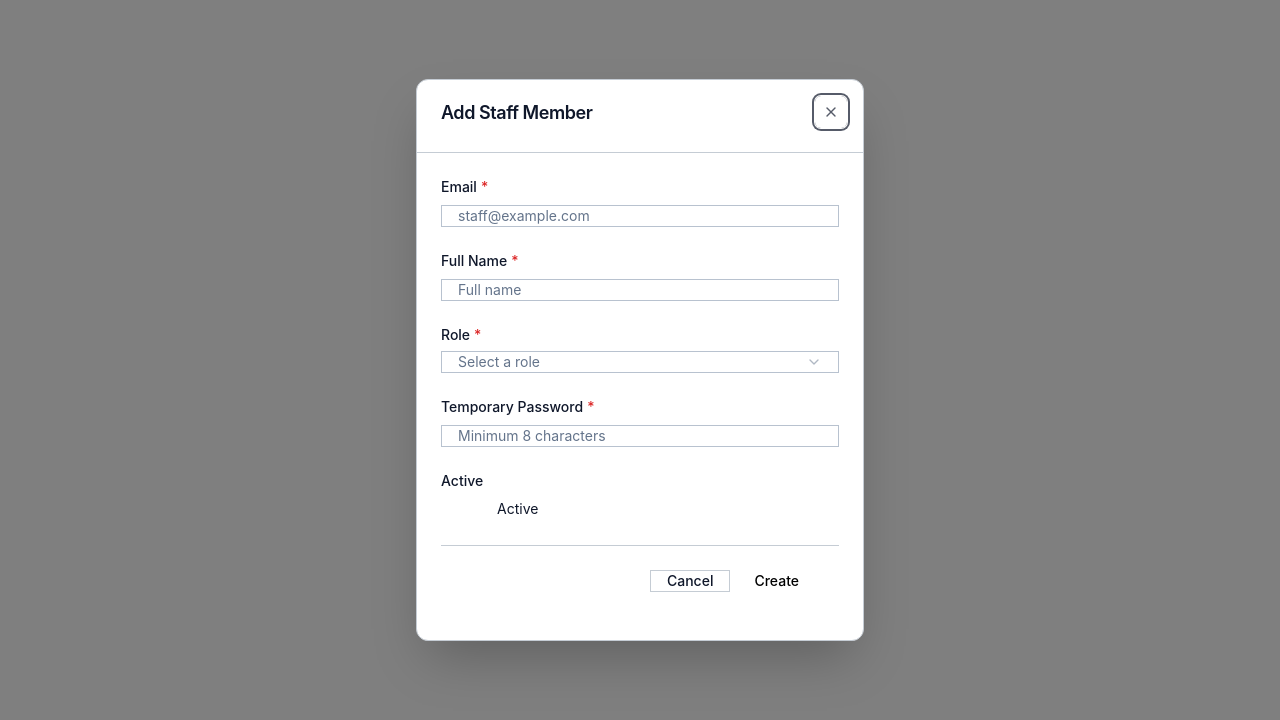
Scenario: StaffFormDialog › create mode › shows role validation error when not selected
What coordinates should you click on to do the following:
click the button "Create"
I would click on:
 (777, 581)
Its box is [738,571,815,591].
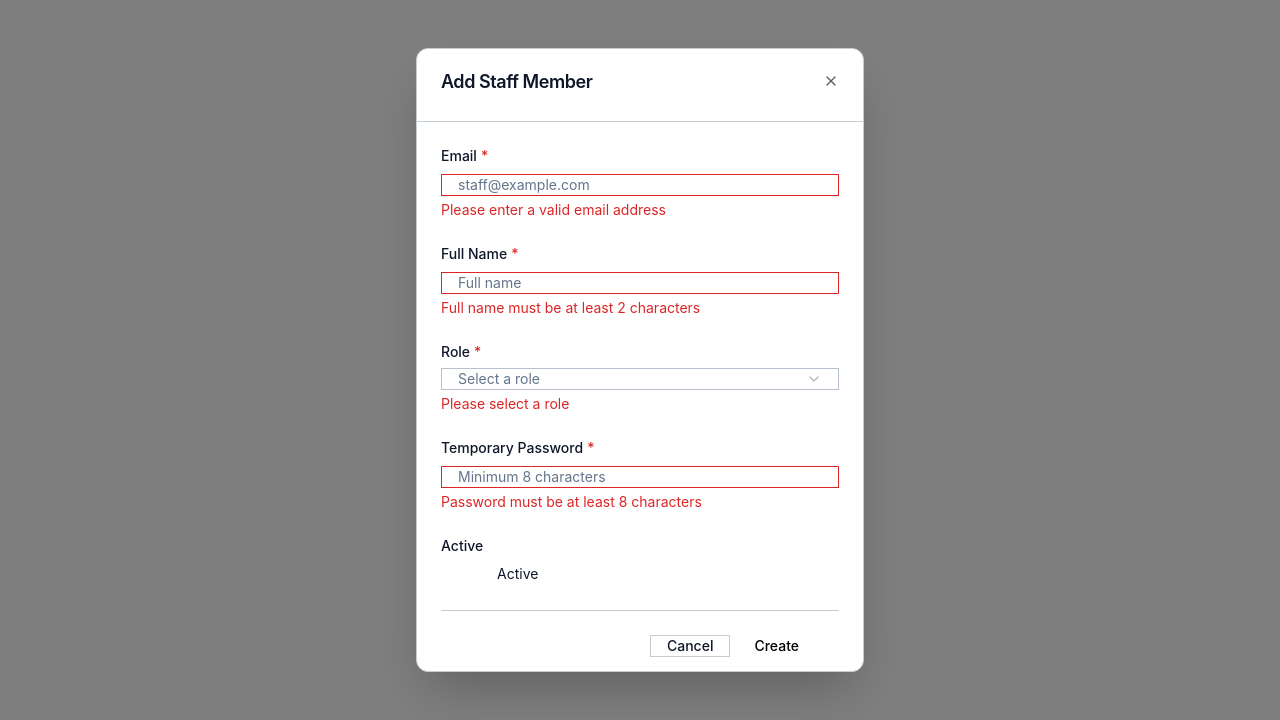
expect the text "Please select a role" is shown: met, box [441,395,569,412]
